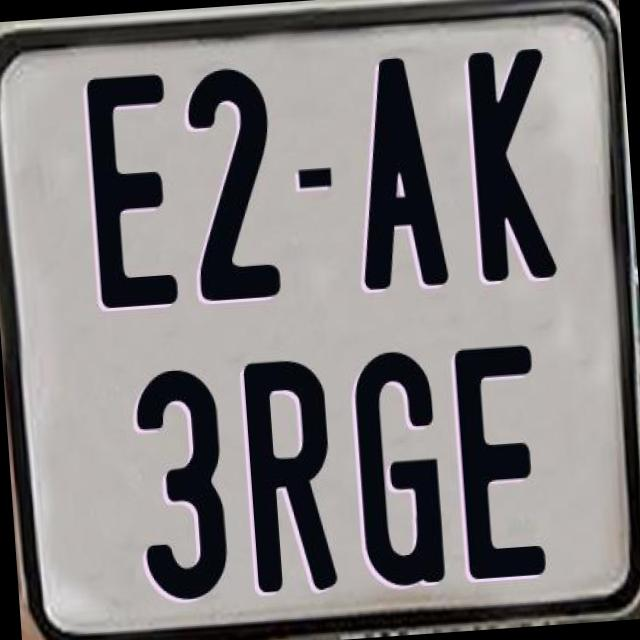2: (184, 62, 284, 304)
3: (132, 364, 234, 606)
A: (346, 56, 448, 298)
E: (452, 339, 548, 581), (85, 70, 179, 313)
G: (348, 346, 450, 594)
K: (464, 45, 554, 280)
R: (244, 358, 342, 594)
